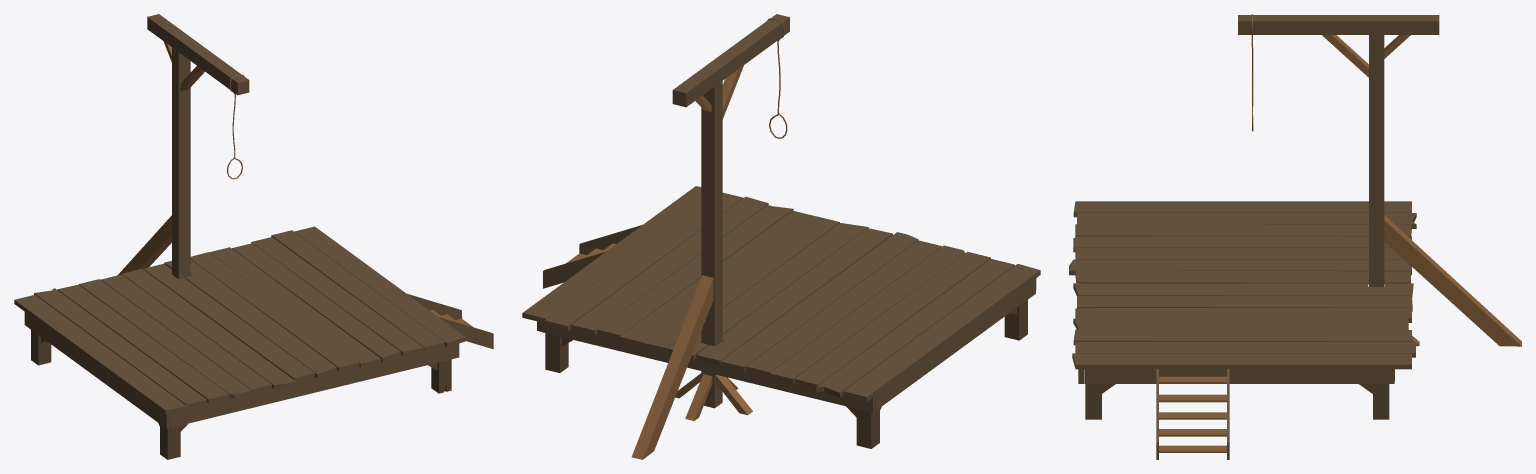
The model's file is Gallows-9CwQ8V3hdd.glb.
The picture shows the model from 3 angles, left to right: view 1: azimuth 30°, elevation 25°; view 2: azimuth 150°, elevation 25°; view 3: azimuth 270°, elevation 25°; orthographic projection. The views are drawn at different scales.
Visible parts, largest first — view 1: Gallows-9CwQ8V3hdd; view 2: Gallows-9CwQ8V3hdd; view 3: Gallows-9CwQ8V3hdd.
Part boxes in pixels (box(x1,y1,x2,y2)): Gallows-9CwQ8V3hdd: box(14, 14, 493, 459); Gallows-9CwQ8V3hdd: box(522, 14, 1040, 459); Gallows-9CwQ8V3hdd: box(1069, 14, 1521, 459).
Size of the model in its own units: 6.14 by 4.75 by 5.93.
